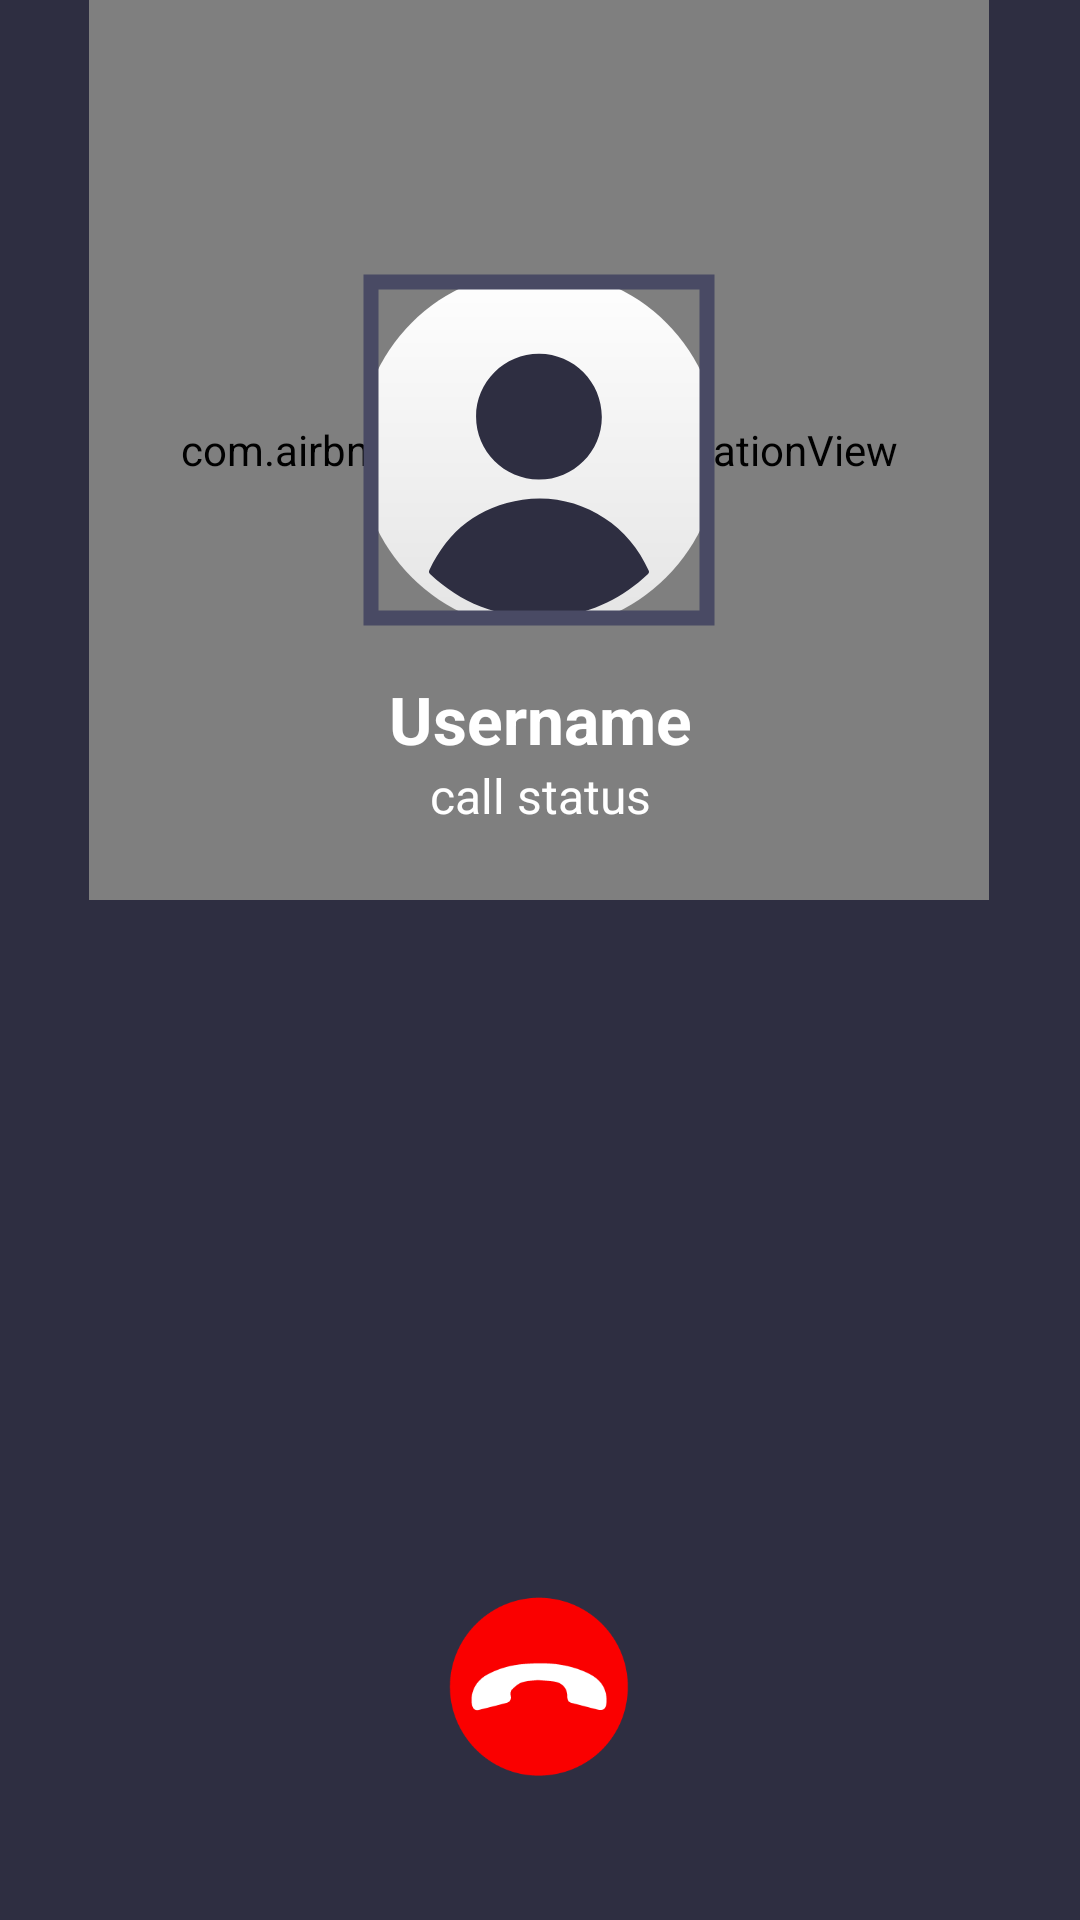

Locate icon controls on the screen. Image size 1080 x 1920, boxes as (x1, y1, x2, y2).
endcallicon: (449, 1597, 628, 1776)
